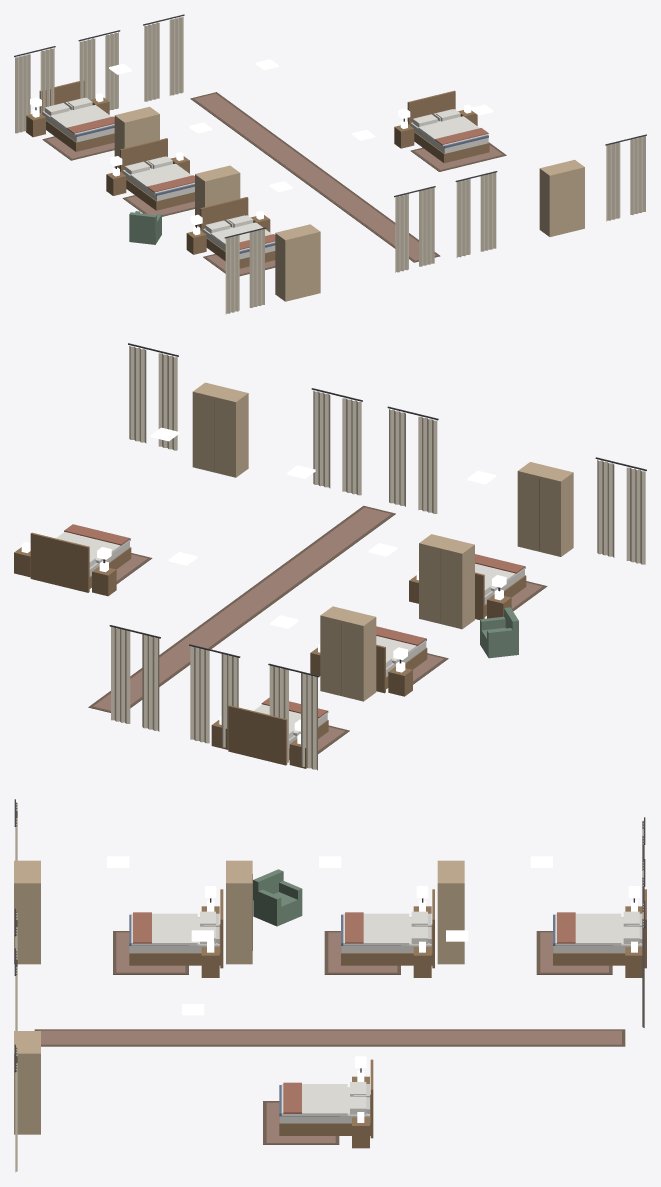
The model's file is fine-s2.glb.
3 views of the same model, one above another, from view 1: azimuth 30°, elevation 25°; view 2: azimuth 150°, elevation 25°; view 3: azimuth 270°, elevation 25° (orthographic). The views are drawn at different scales.
Parts seen in each view (by area): view 1: soft-s2, dresser.007, dresser.004, bed-frame.004, bed-frame.006, bed-frame.005, bed-frame.007, dresser.005, dresser.006, lounge-chair.001, nightstand.008, nightstand.012 (+2 smaller); view 2: soft-s2, dresser.005, dresser.004, dresser.007, dresser.006, bed-frame.004, bed-frame.005, lounge-chair.001, bed-frame.006, bed-frame.007, nightstand.008, nightstand.012; view 3: soft-s2, dresser.006, dresser.005, dresser.007, dresser.004, lounge-chair.001, bed-frame.007, bed-frame.006, bed-frame.004, bed-frame.005, nightstand.015, nightstand.013 (+2 smaller).
Boxes of the visible parts, box(x1,y1,x2,y2) form: soft-s2: box(14, 14, 646, 314); dresser.007: box(275, 224, 320, 301); dresser.004: box(539, 159, 584, 236); bed-frame.004: box(407, 90, 489, 163); bed-frame.006: box(120, 138, 194, 210); bed-frame.005: box(39, 80, 114, 151); bed-frame.007: box(200, 197, 275, 268); dresser.005: box(114, 106, 159, 168); dresser.006: box(195, 165, 240, 227); lounge-chair.001: box(129, 211, 161, 244); nightstand.008: box(394, 120, 414, 148); nightstand.012: box(106, 167, 126, 195); soft-s2: box(56, 343, 646, 770); dresser.005: box(320, 606, 376, 701); dresser.004: box(192, 382, 248, 477); dresser.007: box(517, 462, 573, 556); dresser.006: box(419, 534, 474, 629); bed-frame.004: box(30, 532, 131, 592); bed-frame.005: box(228, 705, 328, 765); lounge-chair.001: box(480, 607, 518, 658); bed-frame.006: box(376, 638, 427, 693); bed-frame.007: box(475, 566, 526, 619); nightstand.008: box(92, 561, 116, 596); nightstand.012: box(388, 661, 412, 696); soft-s2: box(14, 799, 645, 1172); dresser.006: box(226, 860, 252, 964); dresser.005: box(437, 860, 464, 964); dresser.007: box(14, 860, 40, 964); dresser.004: box(14, 1031, 40, 1134); lounge-chair.001: box(253, 869, 302, 926); bed-frame.007: box(129, 889, 223, 968); bed-frame.006: box(341, 889, 434, 968); bed-frame.004: box(279, 1059, 373, 1138); bed-frame.005: box(553, 889, 646, 968); nightstand.015: box(201, 941, 219, 977); nightstand.013: box(413, 941, 431, 977).
Bounding box in the file's own units: 14.36 × 2.56 × 14.14.
